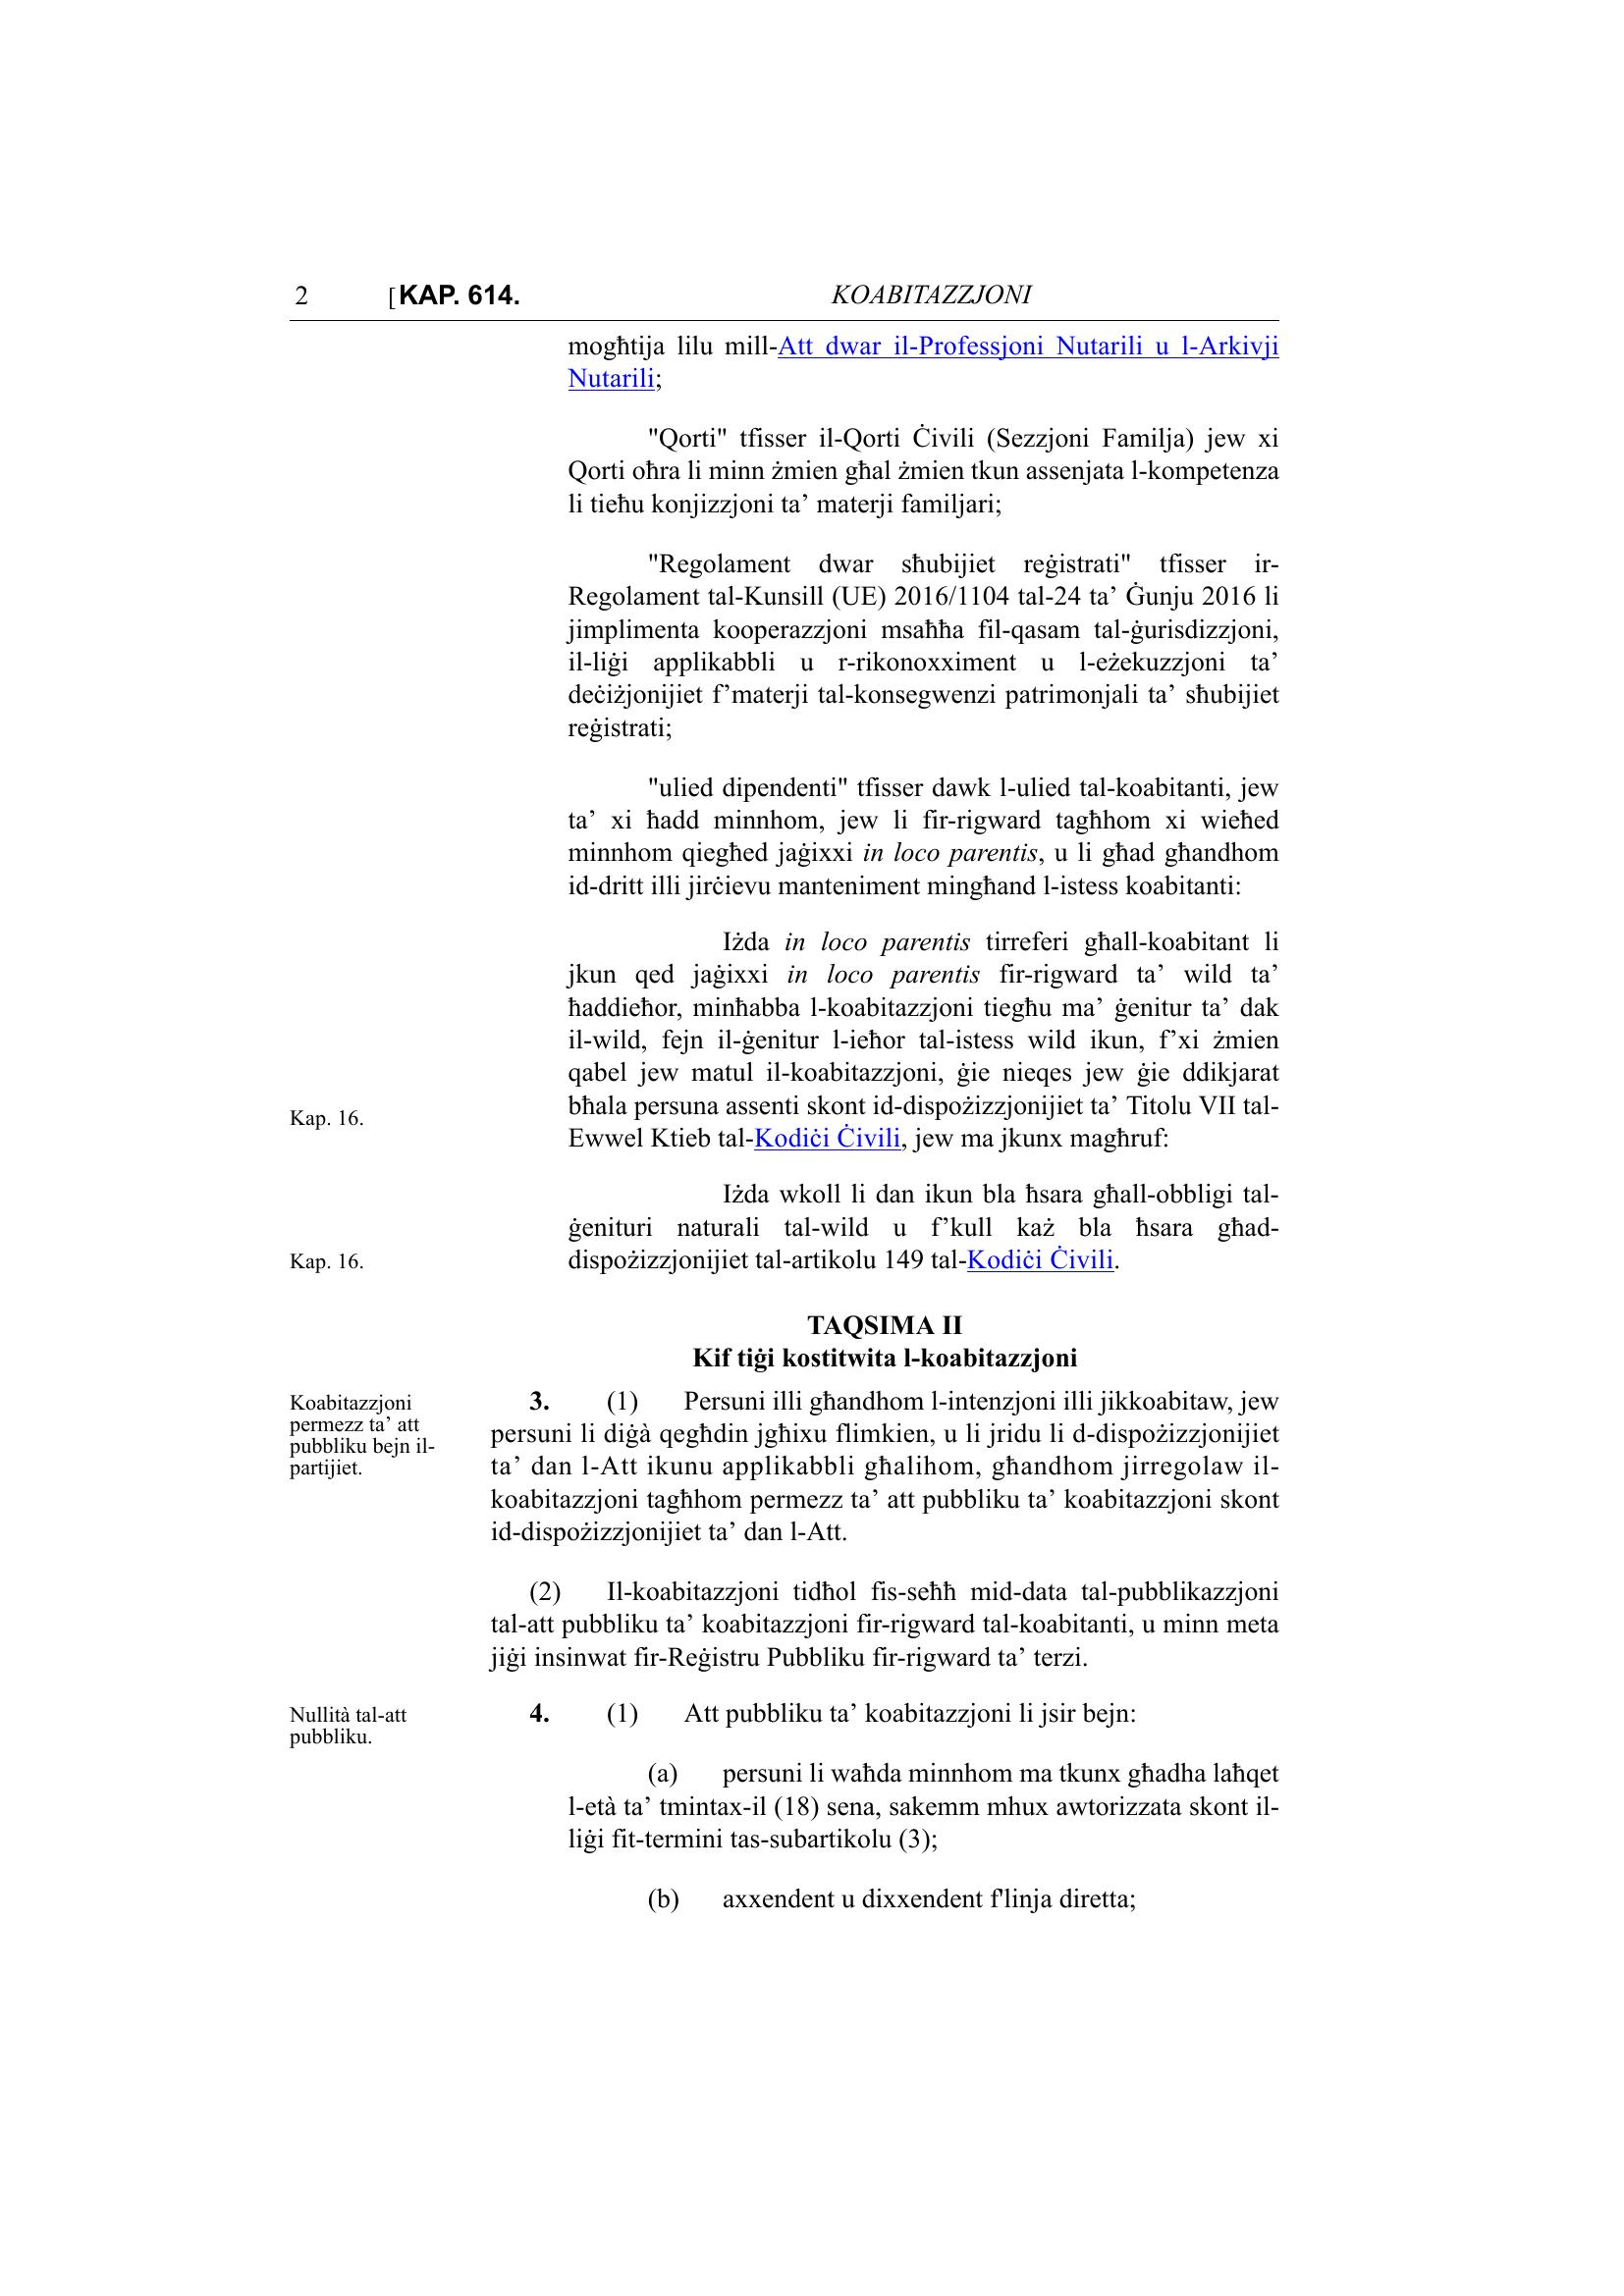text: (469, 329, 1302, 1936)
